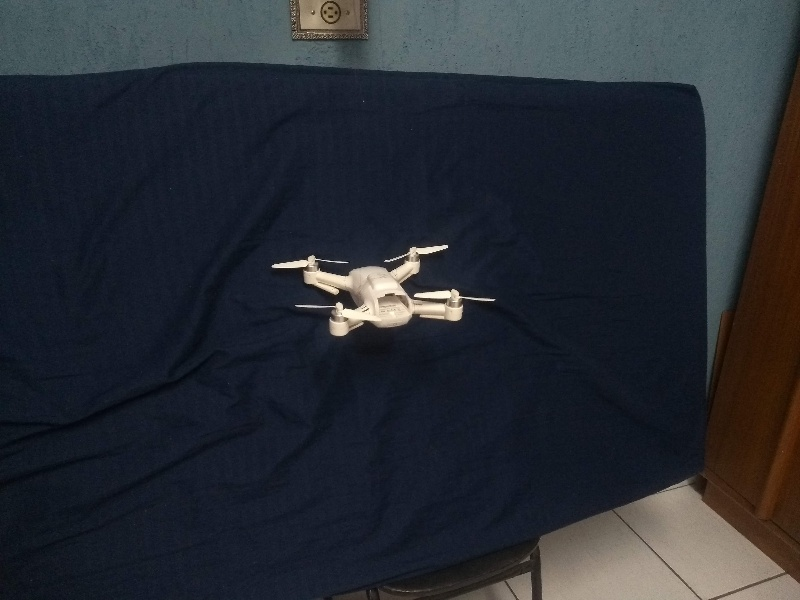drone: (269, 239, 496, 337)
